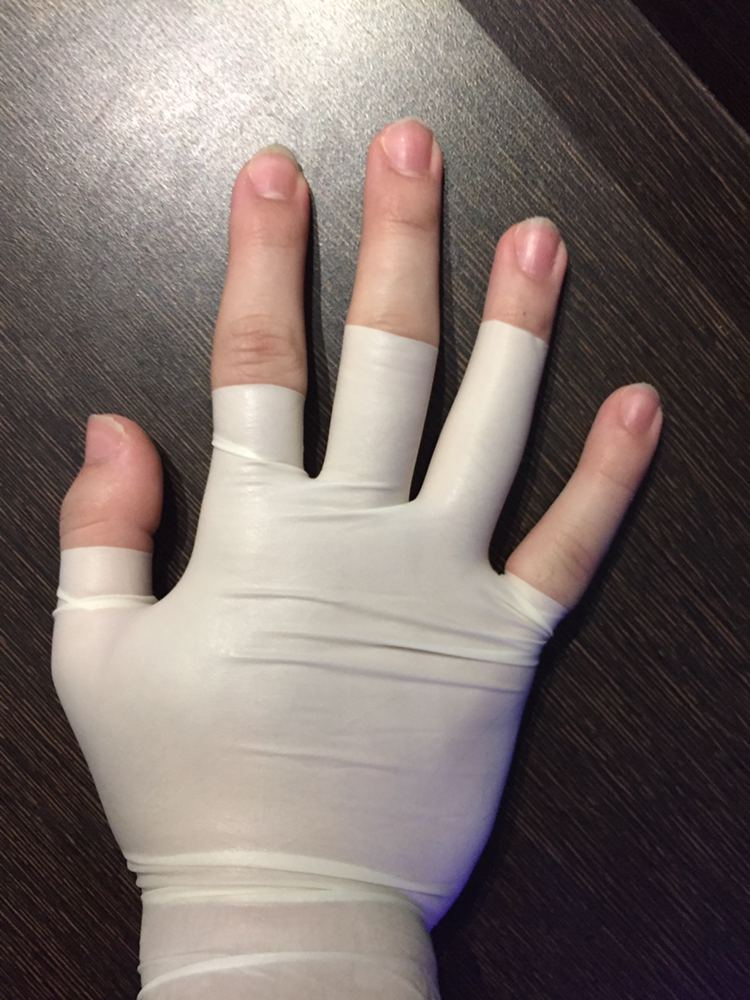defected: (37, 103, 673, 948)
